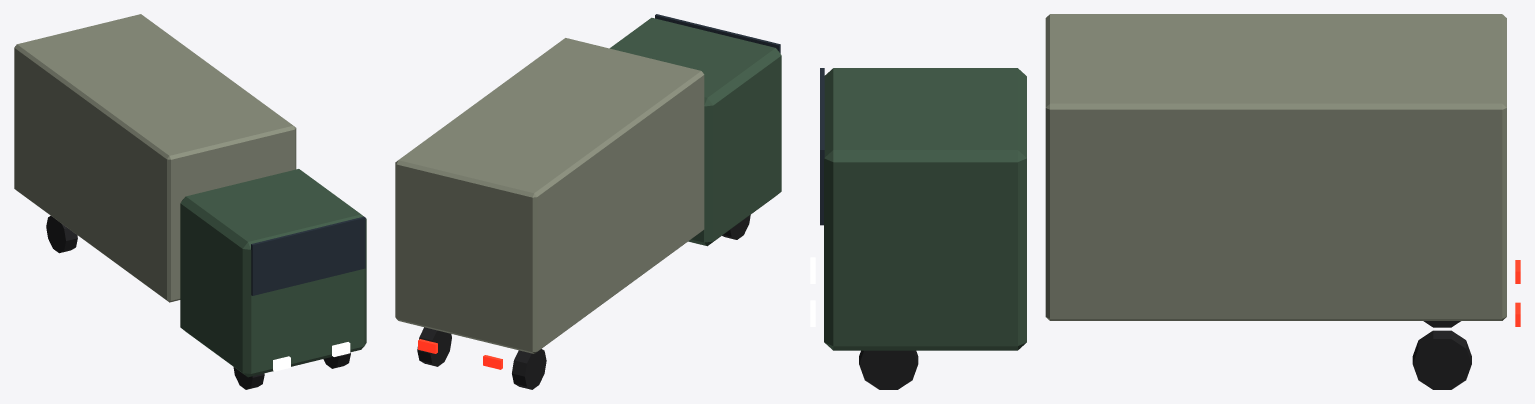
Rendered from truck.glb.
3 views of the same model, side by side, from view 1: azimuth 30°, elevation 25°; view 2: azimuth 150°, elevation 25°; view 3: azimuth 270°, elevation 25° (orthographic). The views are drawn at different scales.
Visible parts, largest first — view 1: truck; view 2: truck; view 3: truck.
Boxes of the visible parts, <box> form: truck: <box>14,14,366,389</box>; truck: <box>395,14,781,389</box>; truck: <box>810,14,1520,389</box>.
Size of the model in its own units: 2.4 by 3.48 by 7.7.
